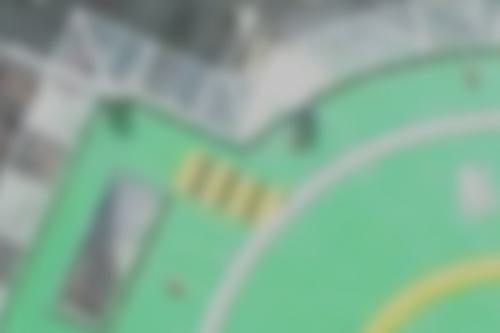Apron: (363, 253, 497, 333)
